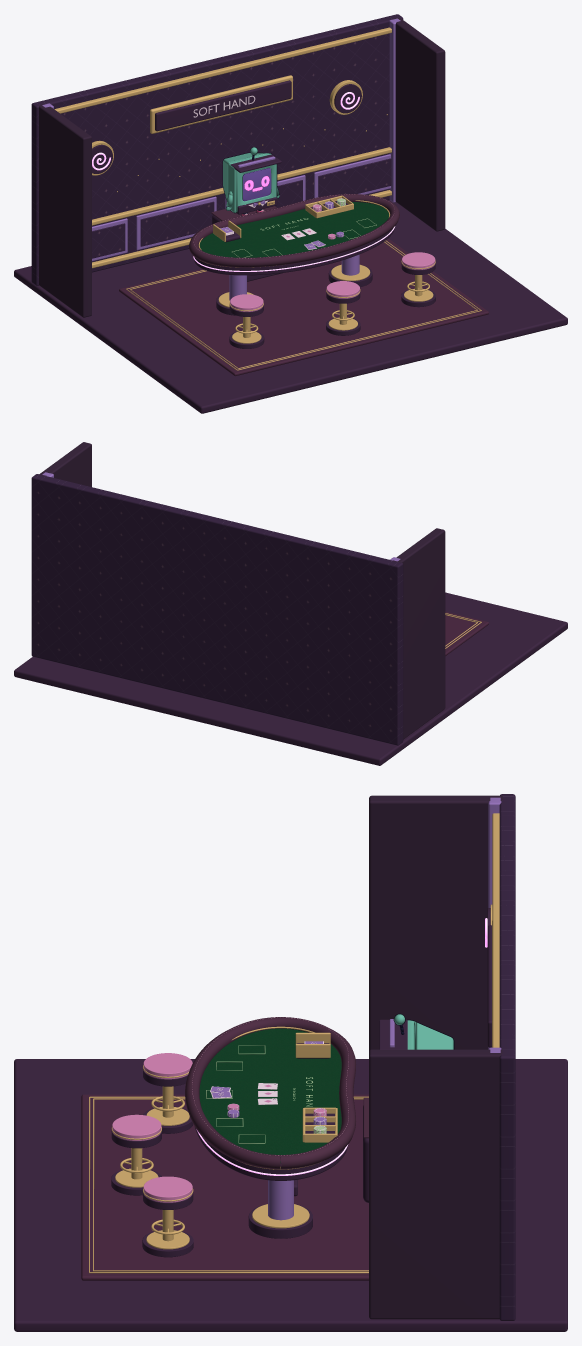
The model's file is card-table.glb.
3 views of the same model, one above another, from view 1: azimuth 30°, elevation 25°; view 2: azimuth 150°, elevation 25°; view 3: azimuth 270°, elevation 25° (orthographic). The views are drawn at different scales.
Parts seen in each view (by area): view 1: back_wall, house_sign_inset, area_rug, house_sign_frame, alcove_return, alcove_return.001, felt_surface, corner_pilaster, dealer_rostrum_pad, community_card_0_pip, table_apron, bezel (+4 smaller); view 2: back_wall, house_sign_inset, alcove_return, alcove_return.001, area_rug; view 3: house_sign_inset, alcove_return.001, area_rug, alcove_return, felt_surface, house_sign_frame, back_wall, dealer_rostrum_pad, community_card_0_pip, corner_pilaster, table_apron, bezel (+1 smaller).
Part boxes in pixels (bbox=[...]): back_wall: bbox=[31, 14, 403, 285]; house_sign_inset: bbox=[14, 80, 567, 413]; area_rug: bbox=[119, 238, 488, 376]; house_sign_frame: bbox=[54, 27, 481, 370]; alcove_return: bbox=[39, 103, 91, 317]; alcove_return.001: bbox=[392, 17, 445, 231]; felt_surface: bbox=[199, 202, 388, 257]; corner_pilaster: bbox=[42, 18, 400, 300]; dealer_rostrum_pad: bbox=[189, 194, 399, 267]; community_card_0_pip: bbox=[230, 204, 435, 311]; table_apron: bbox=[194, 228, 394, 275]; bezel: bbox=[222, 152, 277, 215]; back_wall: bbox=[31, 474, 403, 745]; house_sign_inset: bbox=[14, 592, 567, 765]; alcove_return: bbox=[392, 528, 445, 739]; alcove_return.001: bbox=[39, 442, 91, 486]; area_rug: bbox=[445, 611, 488, 655]; house_sign_inset: bbox=[14, 908, 567, 1331]; alcove_return.001: bbox=[369, 1049, 502, 1319]; area_rug: bbox=[81, 1094, 368, 1280]; alcove_return: bbox=[369, 795, 502, 1051]; felt_surface: bbox=[199, 1028, 341, 1162]; house_sign_frame: bbox=[89, 813, 499, 1273]; back_wall: bbox=[499, 794, 515, 1320]; dealer_rostrum_pad: bbox=[185, 1017, 368, 1169]; community_card_0_pip: bbox=[112, 1053, 326, 1202]; corner_pilaster: bbox=[211, 797, 501, 1220]; table_apron: bbox=[194, 1126, 348, 1180]; bezel: bbox=[407, 1019, 454, 1049].
Size of the model in its own units: 6.2 by 3.02 by 5.5.
20 materials, 3 textured.
